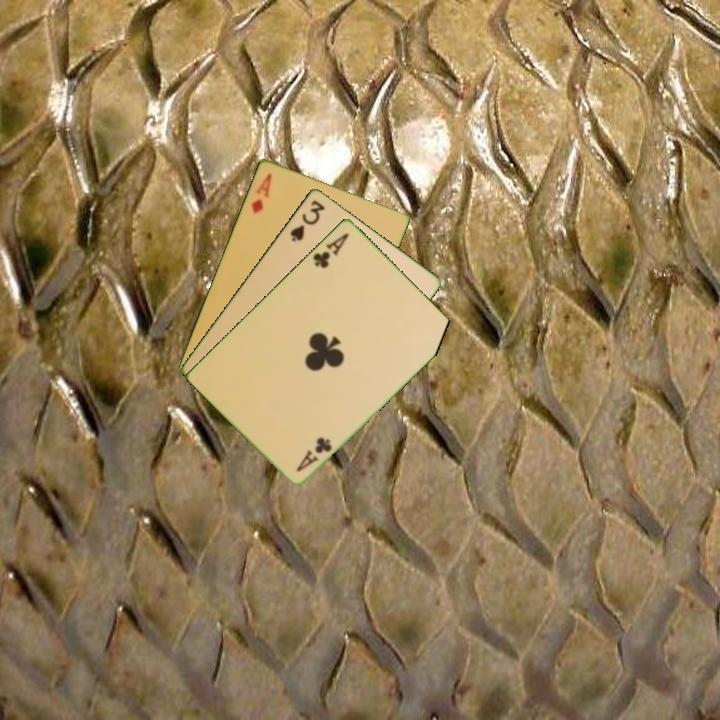3s: (286, 196, 328, 244)
Ac: (309, 229, 352, 271), (293, 433, 335, 474)
Ad: (247, 169, 274, 217)
